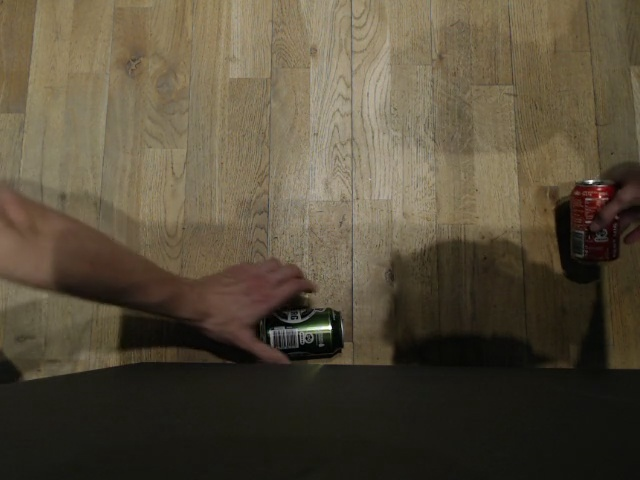beer: (257, 307, 343, 360)
cola: (569, 178, 620, 261)
